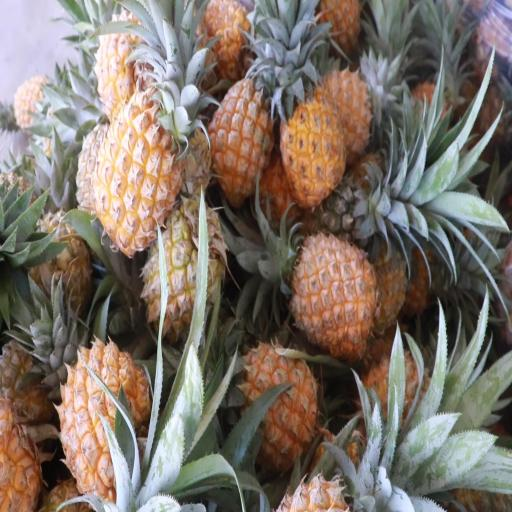------------------------------: (144, 205, 222, 334)
Pineapple - v8 v1: (65, 345, 150, 499), (94, 105, 178, 250), (290, 234, 374, 349), (240, 342, 322, 453), (208, 74, 278, 196), (281, 94, 347, 202), (98, 22, 161, 117)
